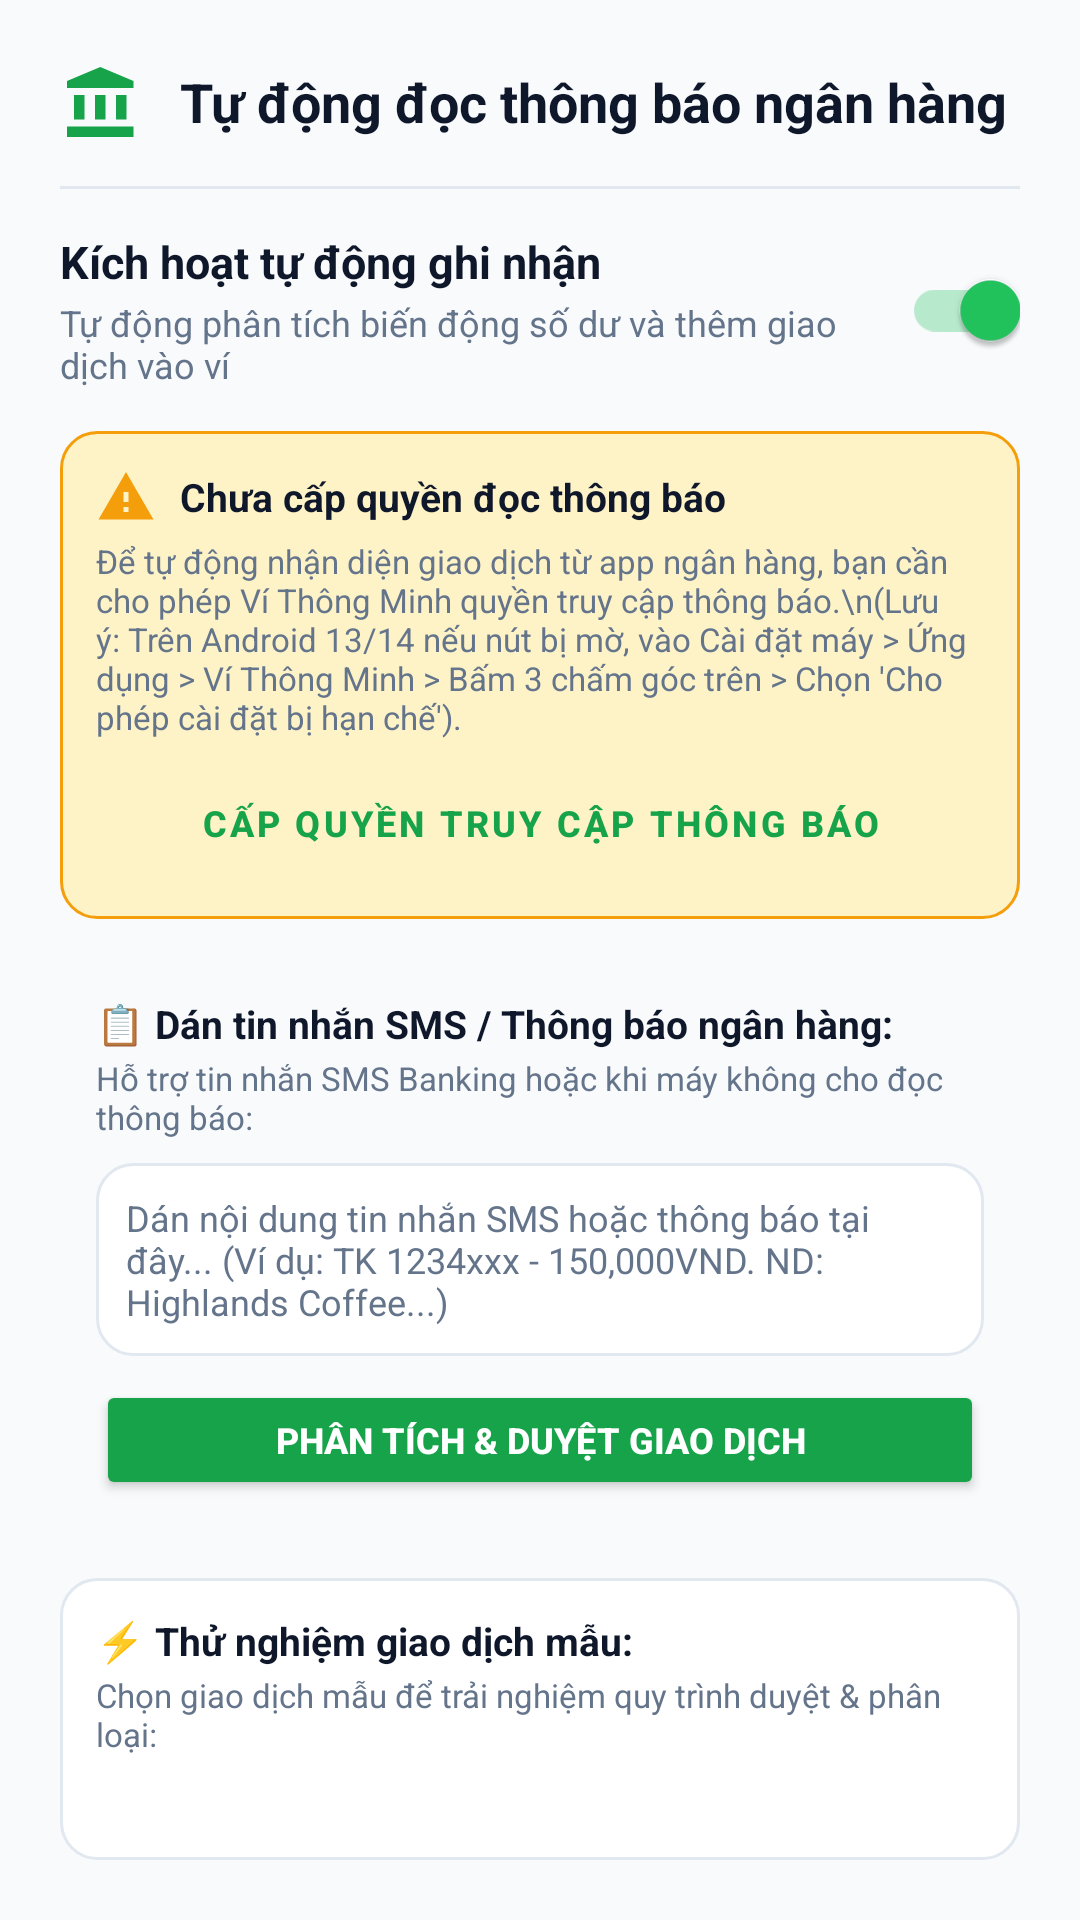

Icon click points for this 1080×1920 phone screenshot, format (x,y):
bank: (100,102)
warning: (126,496)
